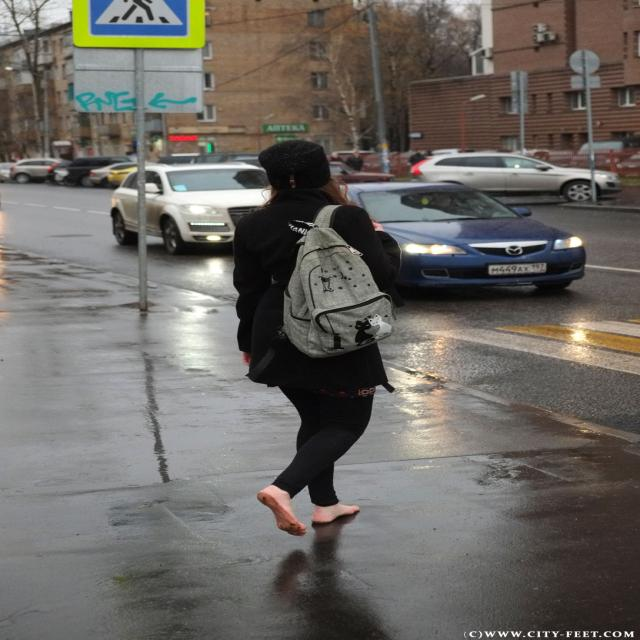Barefoots: (257, 485, 306, 536), (310, 504, 360, 524)
